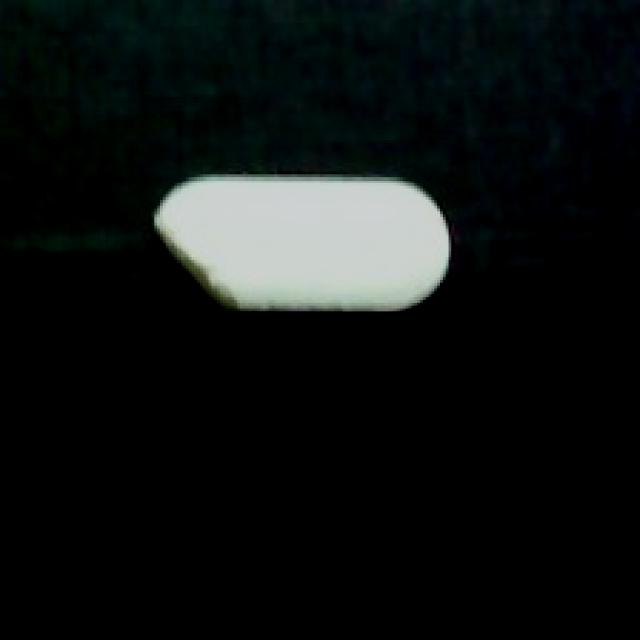defected: (143, 166, 460, 337)
